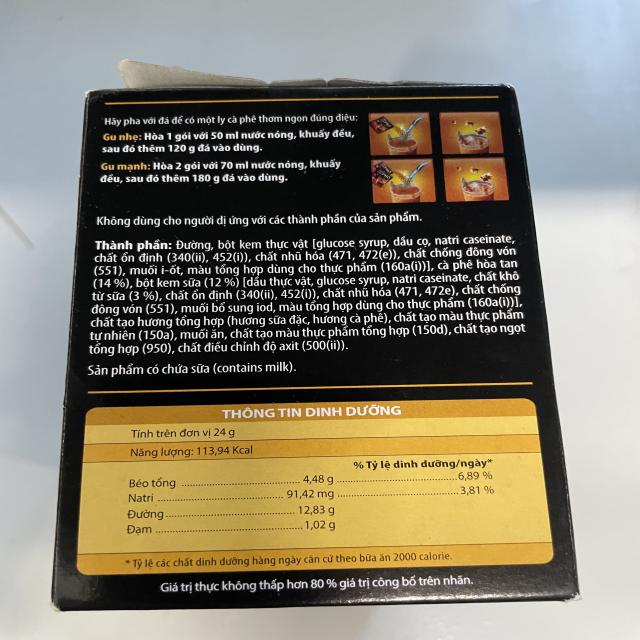object_name: (77, 91, 560, 600)
